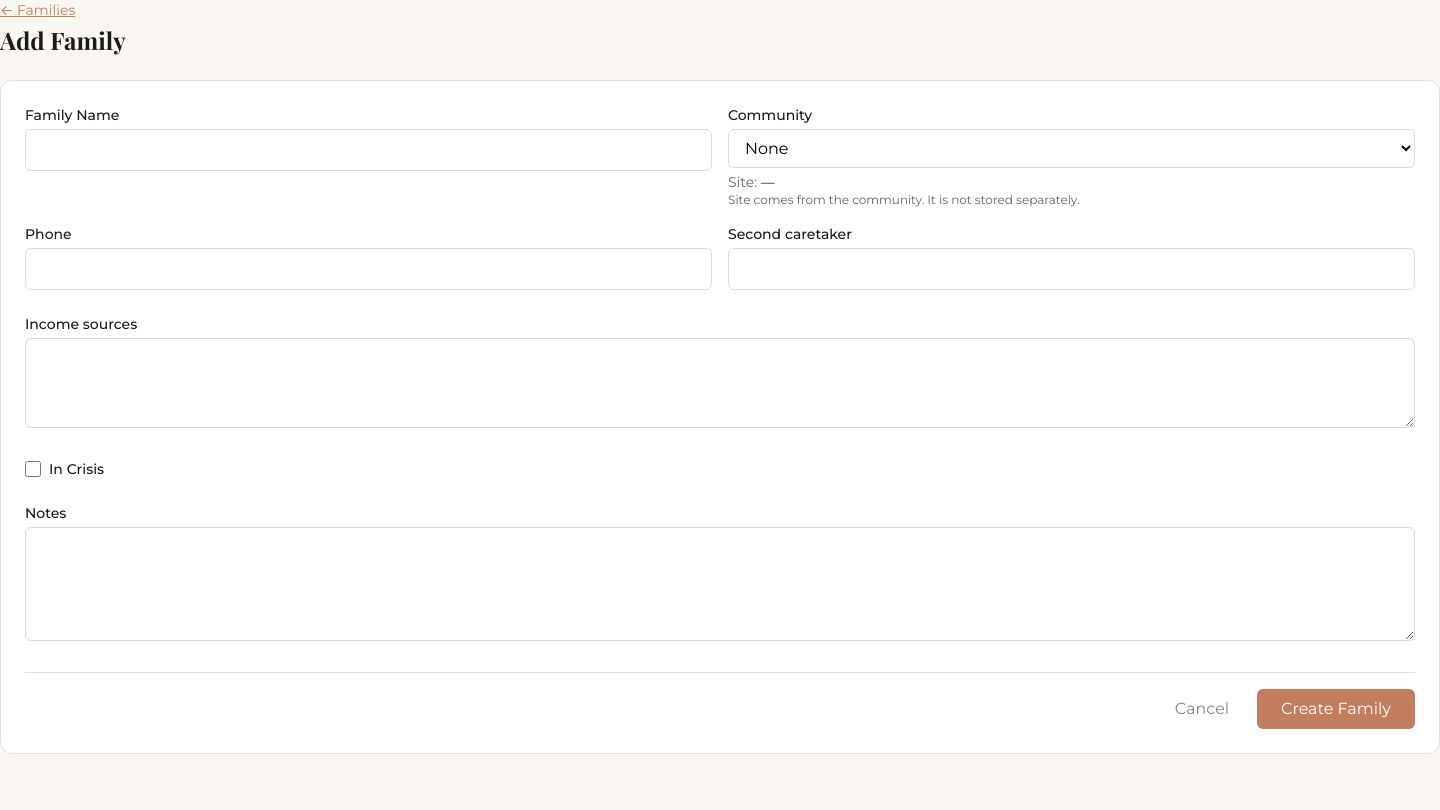
Test: AddFamilyPage › shows error message when family creation fails
This screenshot has width=1440, height=810.
// Fill and submit form
Type "Test Family" into the field labelled "Family Name" at (368, 150), box [25,129,712,171]
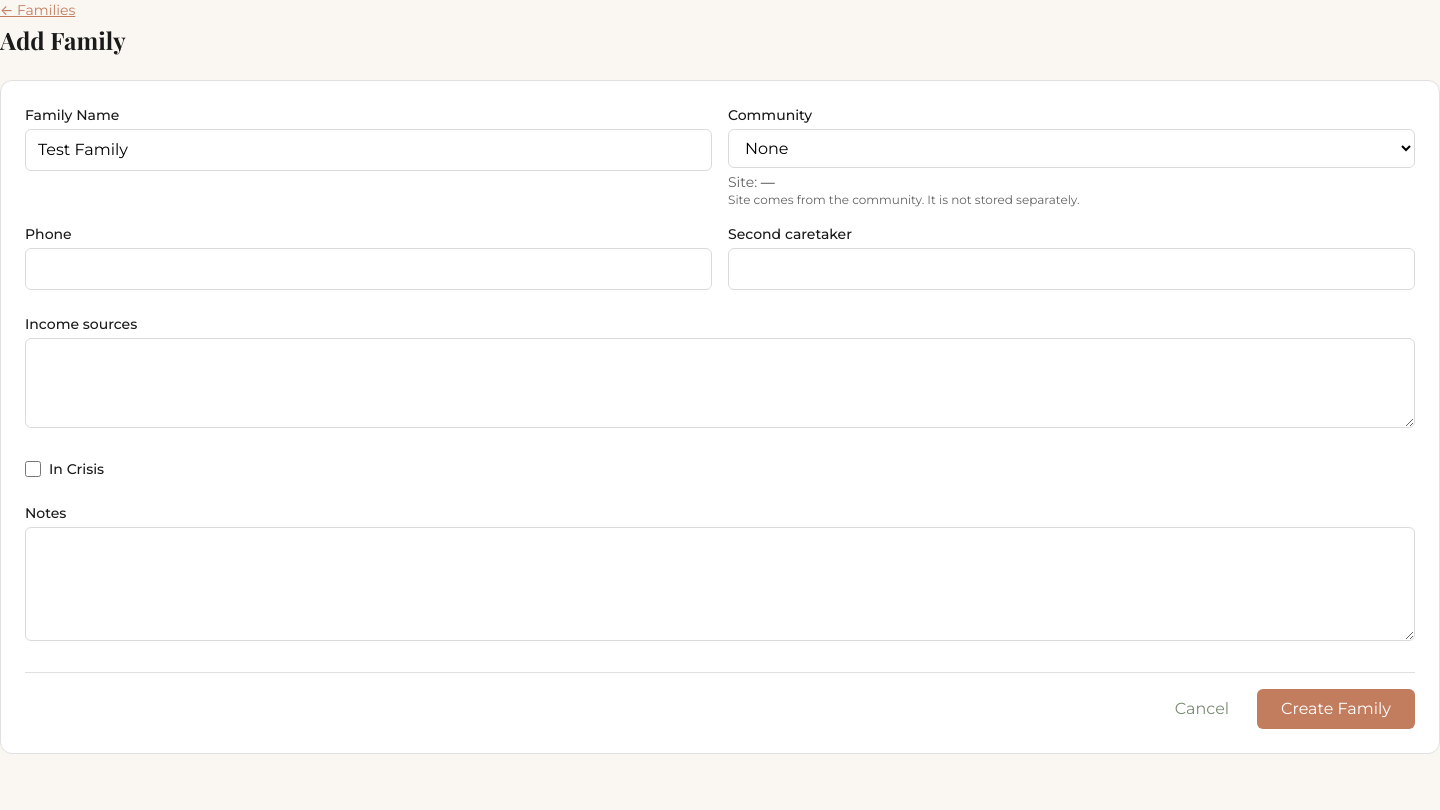
Click the button "Create Family" at (1336, 709), box [1257,689,1415,729]
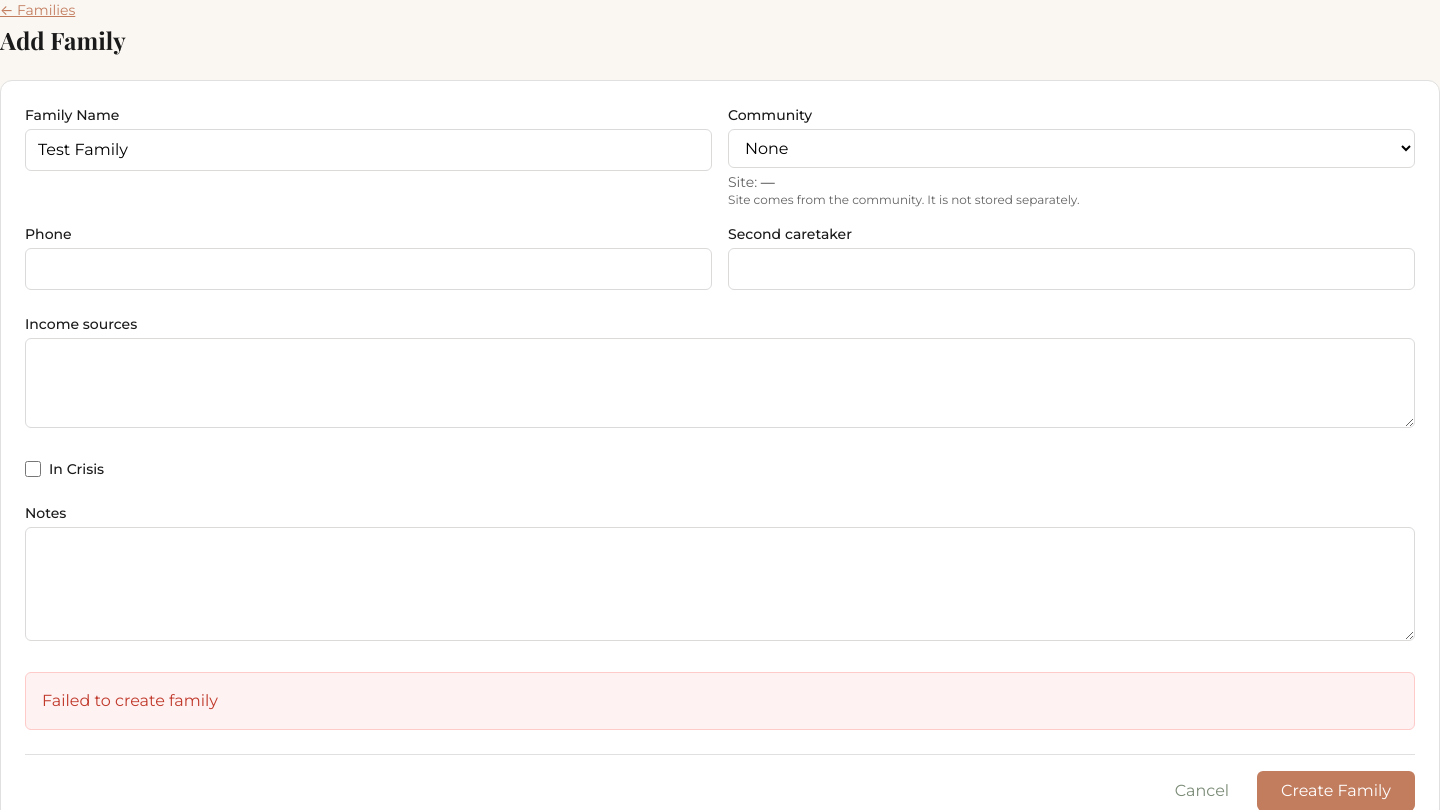
expect the text "Failed to create family" is shown: met, box [42,691,218,710]
